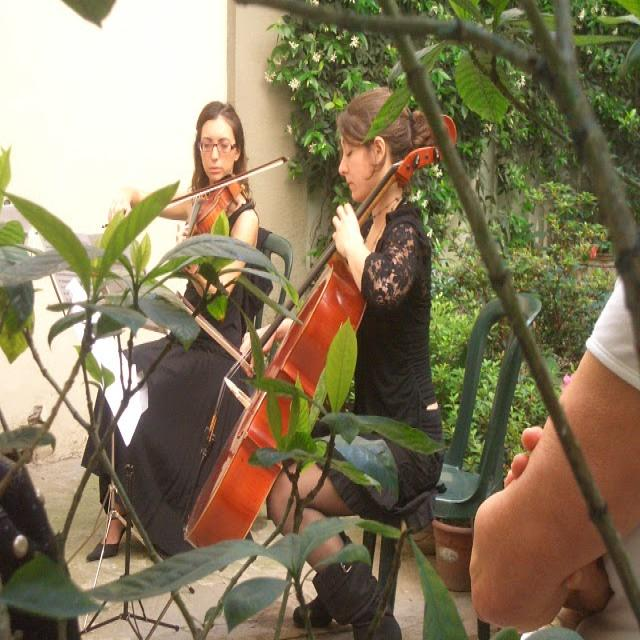cello: (184, 113, 454, 564)
violin: (172, 178, 246, 268)
